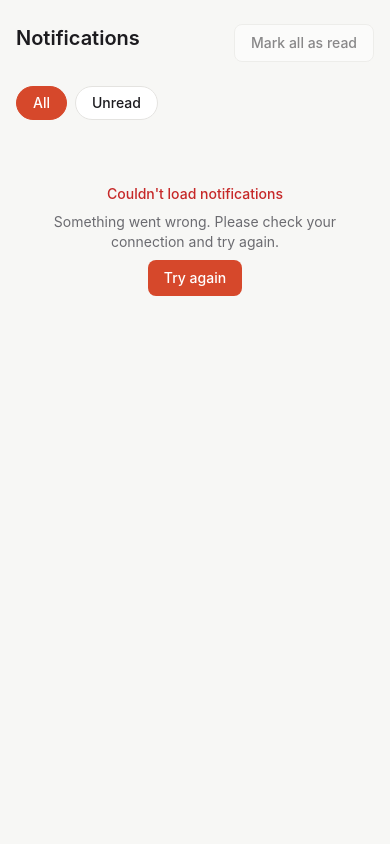
NotificationsView — states › error state offers Try again, which re-reads
Check: the text "Couldn't load notifications" is shown, box [107,184,283,204]
Check: the text "Something went wrong. Please check your connection and try again." is shown, box [54,213,336,250]
Click the button "Try again". click: (195,278)
box: [148,260,242,296]
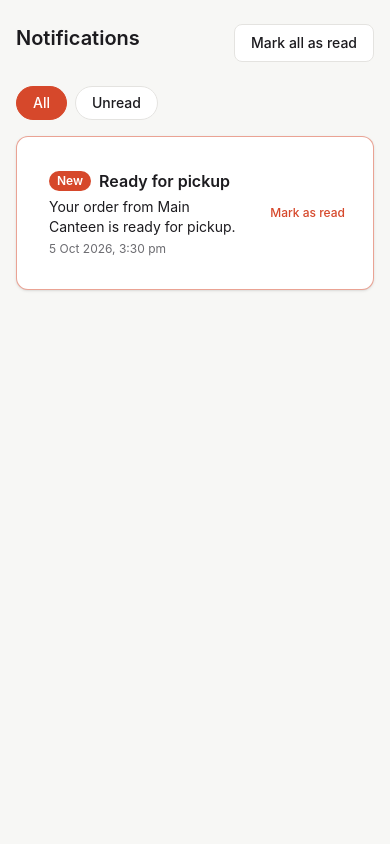
Check: the text "Ready for pickup" is shown, box [99,169,230,193]
